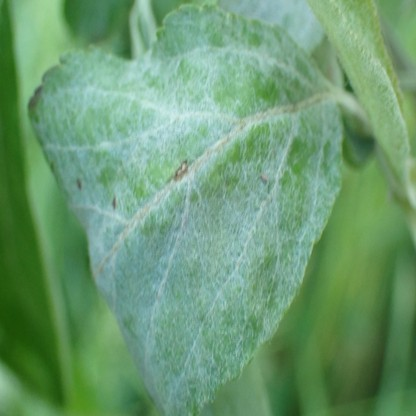powder: (27, 2, 346, 415), (311, 3, 409, 198)
